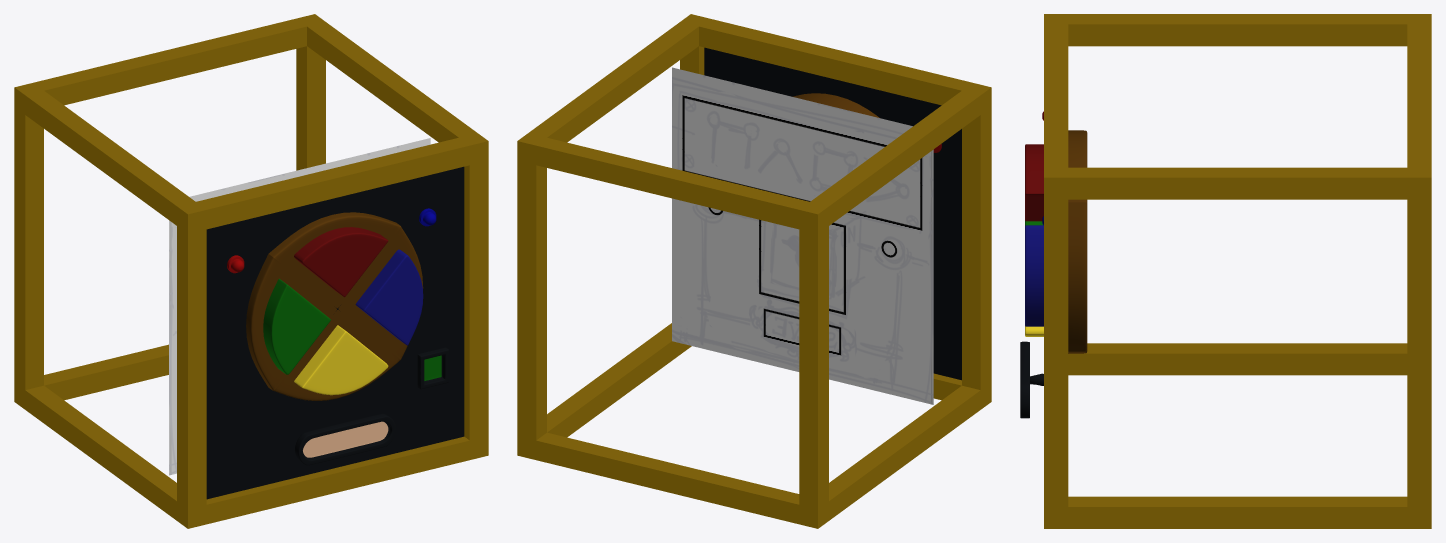
The model's file is Simon_P1_01.fbx.
The picture shows the model from 3 angles, left to right: view 1: azimuth 30°, elevation 25°; view 2: azimuth 150°, elevation 25°; view 3: azimuth 270°, elevation 25°; orthographic projection. The views are drawn at different scales.
Visible parts, largest first — view 1: Display Plane, Box048, Box049, Box055, Box056, Box051, Box050, Box054, Box052, Box053, Cylinder055, Cylinder053 (+11 smaller); view 2: Pigpen P1 Layout, Display Plane, Box055, Box056, Box046, Box057, Box048, Box049, Box054, Box052, Box053, Box047 (+1 smaller); view 3: Box053, Box047, Box054, Box052, Box046, Box051, Box056, Box049, Cylinder049, Cylinder053, Cylinder054, SOLVE (+1 smaller).
Part boxes in pixels (x1,y1,x2,y2): Display Plane: [206, 166, 464, 499]; Box048: [177, 214, 206, 528]; Box049: [188, 137, 488, 229]; Box055: [14, 88, 43, 401]; Box056: [15, 14, 314, 105]; Box051: [464, 141, 488, 455]; Box050: [188, 436, 487, 528]; Box054: [14, 87, 195, 225]; Box052: [14, 385, 187, 528]; Box053: [307, 14, 487, 142]; Cylinder055: [263, 278, 330, 374]; Cylinder053: [355, 249, 423, 345]; Pigpen P1 Layout: [672, 67, 933, 404]; Display Plane: [704, 47, 961, 380]; Box055: [799, 214, 828, 528]; Box056: [517, 137, 817, 229]; Box046: [517, 141, 546, 455]; Box057: [518, 432, 817, 528]; Box048: [962, 88, 991, 401]; Box049: [691, 14, 990, 105]; Box054: [810, 87, 991, 225]; Box052: [818, 385, 991, 528]; Box053: [518, 14, 698, 142]; Box047: [547, 323, 691, 437]; Box053: [1044, 167, 1431, 199]; Box047: [1044, 496, 1430, 528]; Box054: [1045, 14, 1430, 46]; Box052: [1068, 343, 1407, 375]; Box046: [1407, 178, 1431, 528]; Box051: [1044, 178, 1068, 528]; Box056: [1407, 14, 1431, 177]; Box049: [1044, 14, 1068, 177]; Cylinder049: [1068, 202, 1087, 351]; Cylinder053: [1025, 225, 1043, 326]; Cylinder054: [1025, 144, 1043, 221]; SOLVE: [1020, 341, 1043, 418].
Size of the model in its own units: 126 by 126 by 134.
11 materials, 1 textured.
